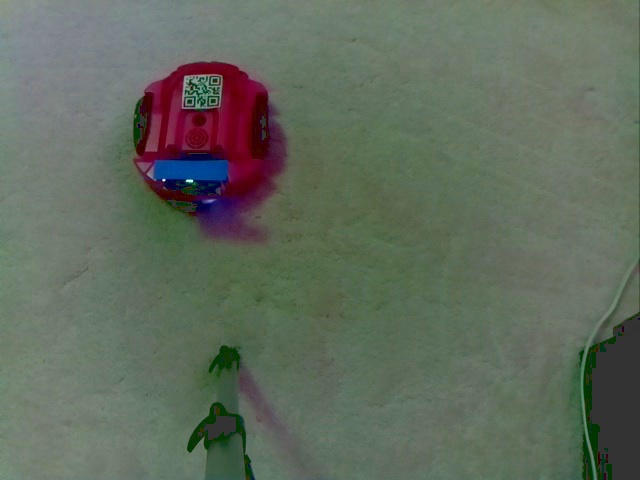board: (148, 150, 234, 194)
chassis: (127, 54, 275, 205)
